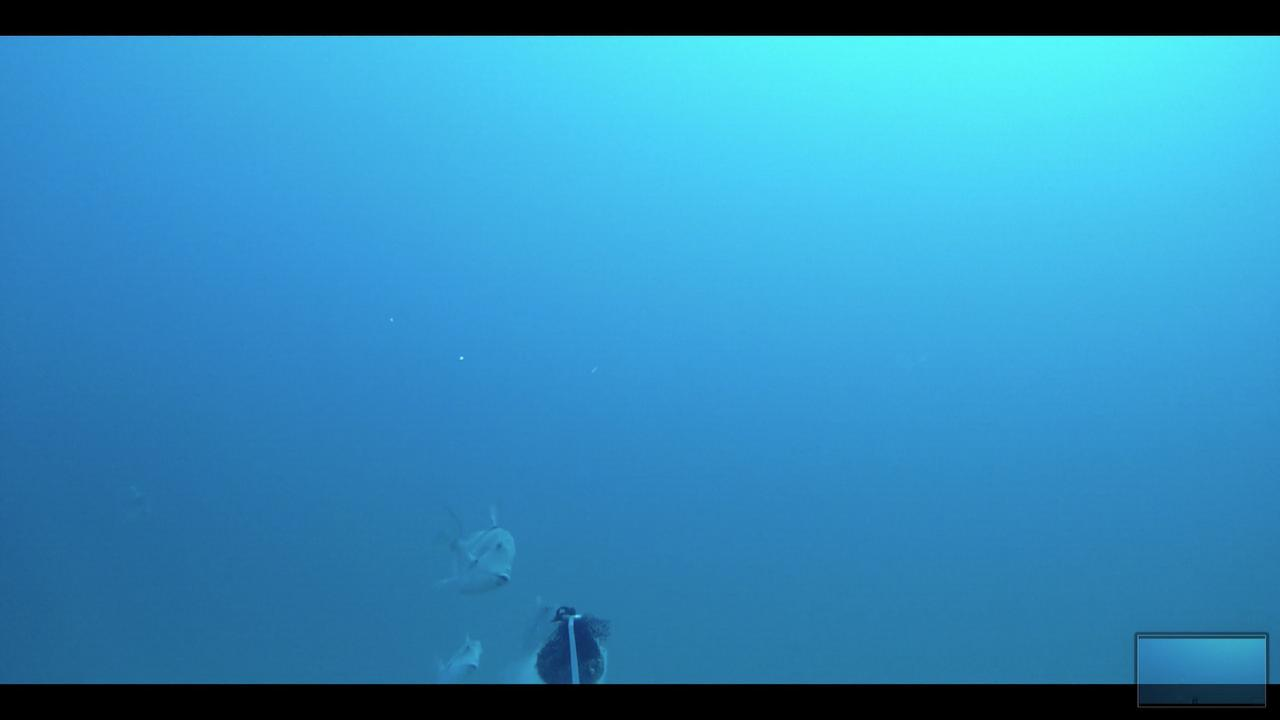balistes: (424, 500, 519, 602), (424, 633, 485, 682)
